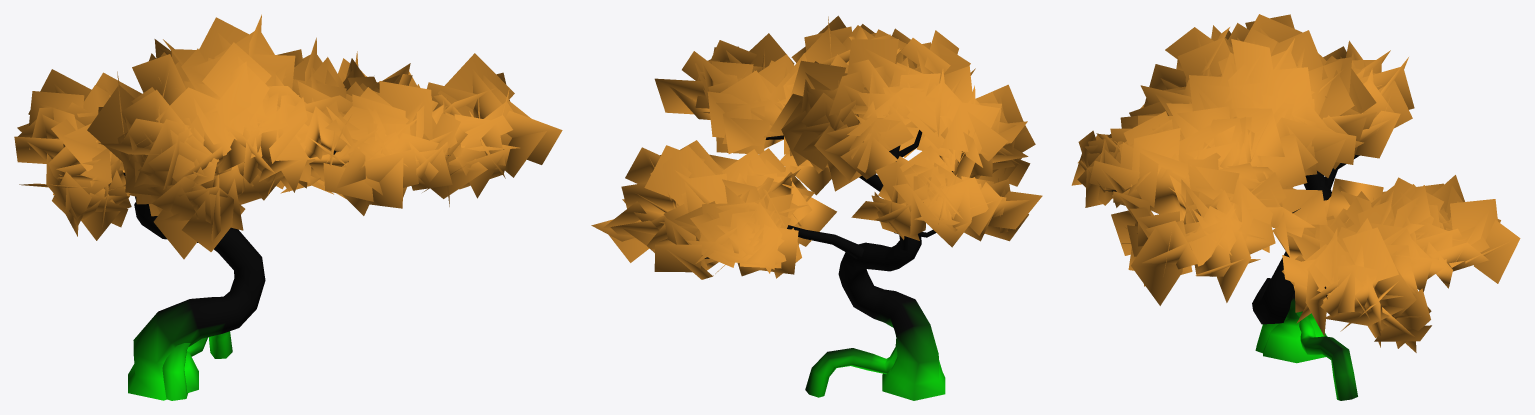
Rendered from SM_RedMaple03.fbx.
3 views of the same model, side by side, from view 1: azimuth 30°, elevation 25°; view 2: azimuth 150°, elevation 25°; view 3: azimuth 270°, elevation 25° (orthographic). The views are drawn at different scales.
Visible parts, largest first — view 1: SM_RedMaple03_LOD0; view 2: SM_RedMaple03_LOD0; view 3: SM_RedMaple03_LOD0.
Part boxes in pixels (<box>): SM_RedMaple03_LOD0: <box>14,14,562,400</box>; SM_RedMaple03_LOD0: <box>591,15,1042,400</box>; SM_RedMaple03_LOD0: <box>1071,14,1520,400</box>.
Size of what is drawn, in the model's own units: 2792 by 2192 by 2526.
